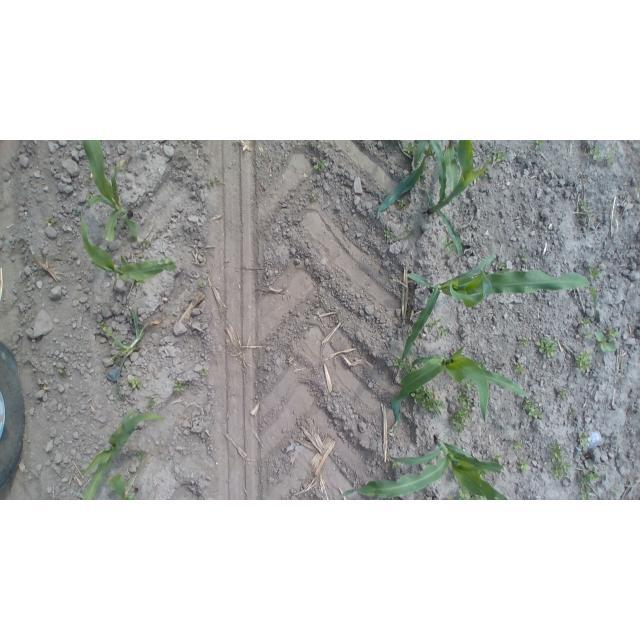Maize: (396, 257, 600, 364), (380, 348, 532, 429), (333, 436, 522, 501), (420, 140, 492, 261), (77, 408, 163, 500), (76, 210, 181, 284), (72, 141, 144, 248), (376, 142, 440, 222), (104, 474, 143, 500)
Weeds: (448, 379, 478, 433), (410, 383, 446, 418), (547, 441, 571, 482), (577, 468, 601, 501), (533, 335, 560, 359), (593, 331, 618, 354), (428, 318, 449, 343), (522, 398, 543, 421), (572, 351, 593, 373), (455, 486, 485, 500), (394, 357, 414, 375), (509, 359, 529, 377), (576, 315, 592, 332), (587, 266, 604, 281), (441, 236, 455, 254), (312, 159, 330, 173), (128, 375, 146, 389), (515, 459, 531, 474), (588, 145, 603, 160), (576, 433, 590, 449), (147, 397, 160, 414), (173, 378, 186, 395), (399, 224, 417, 236), (554, 387, 568, 402), (206, 176, 224, 187), (494, 259, 508, 273), (381, 227, 395, 241), (490, 451, 506, 463), (608, 327, 621, 341), (43, 216, 57, 229), (492, 149, 502, 166), (569, 406, 581, 420), (584, 331, 599, 342), (394, 199, 410, 209), (575, 199, 588, 211), (309, 191, 321, 204), (198, 366, 210, 379), (135, 453, 146, 467), (402, 141, 414, 153), (532, 140, 546, 150), (601, 155, 613, 166), (56, 368, 68, 379), (511, 441, 524, 451), (518, 336, 528, 349), (197, 279, 208, 290), (134, 279, 146, 289), (633, 182, 640, 198), (518, 252, 529, 261), (390, 461, 400, 470), (609, 145, 618, 155)
